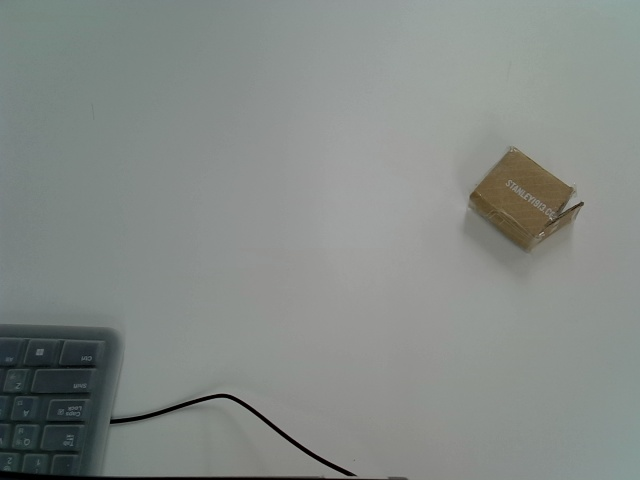defect: (468, 147, 584, 253)
